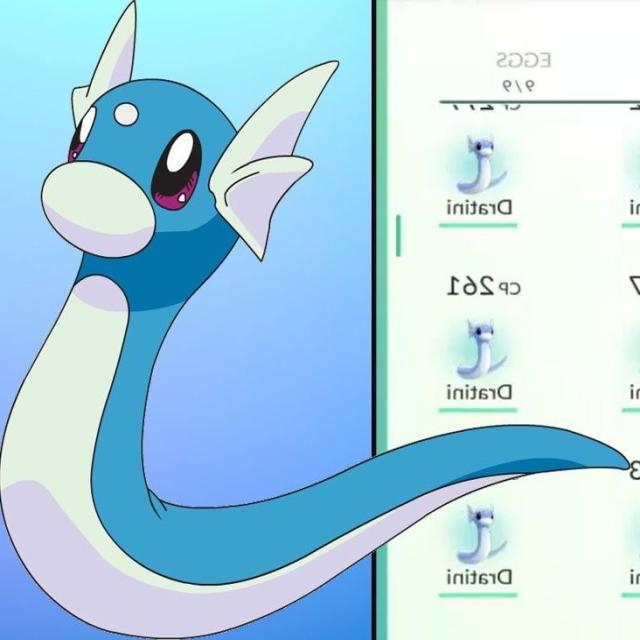Dratini: (34, 56, 352, 616), (448, 130, 515, 198), (449, 317, 515, 386), (453, 500, 515, 565)
